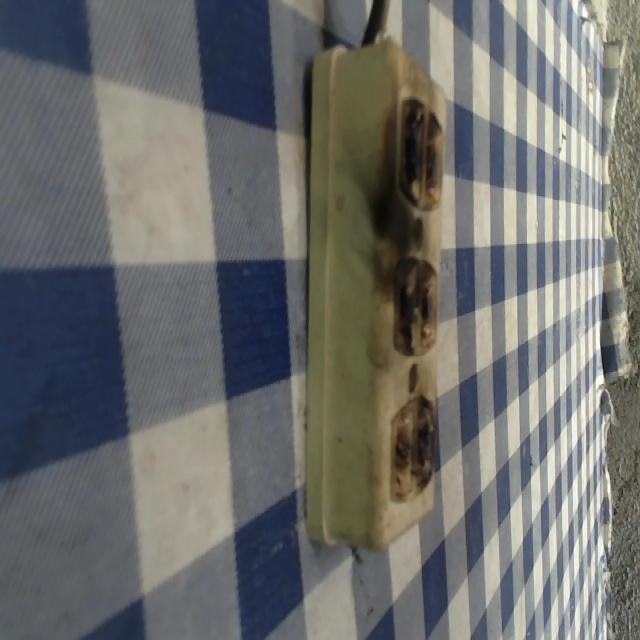-: (395, 89, 445, 215), (390, 250, 437, 358), (388, 392, 435, 500)
